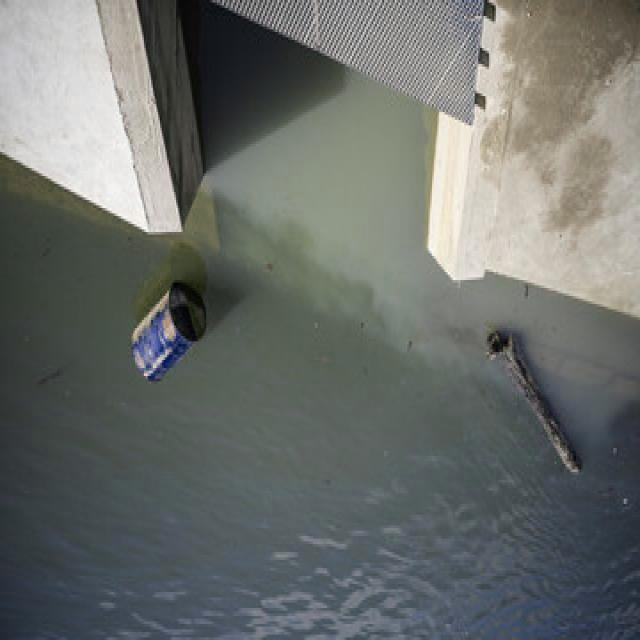Metal: (125, 283, 210, 386)
